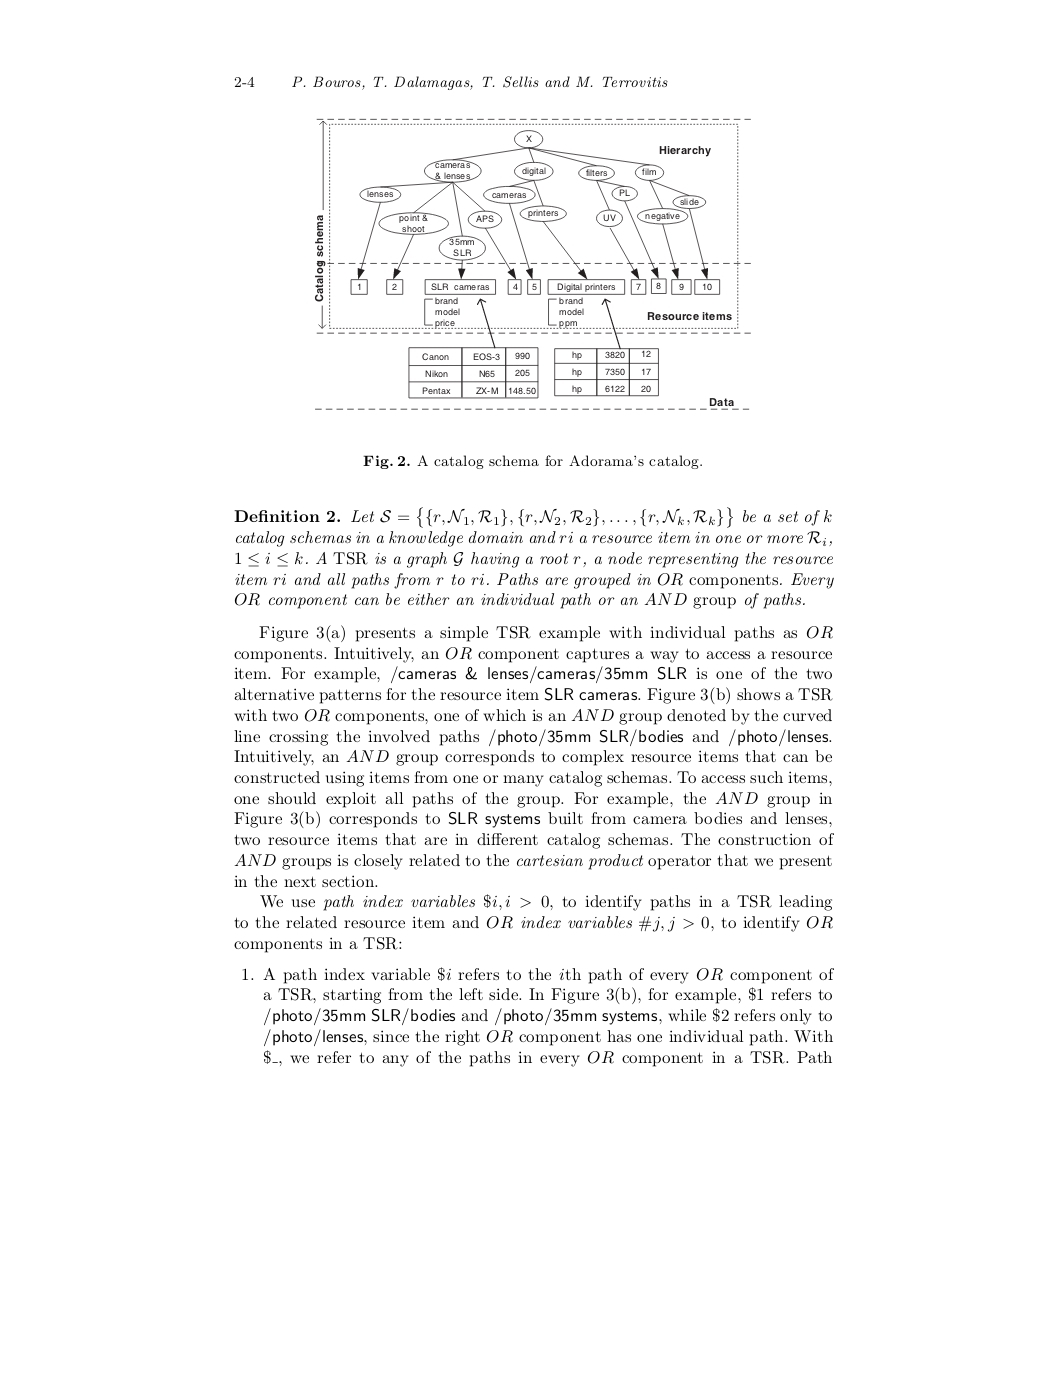figure: (315, 117, 750, 410)
